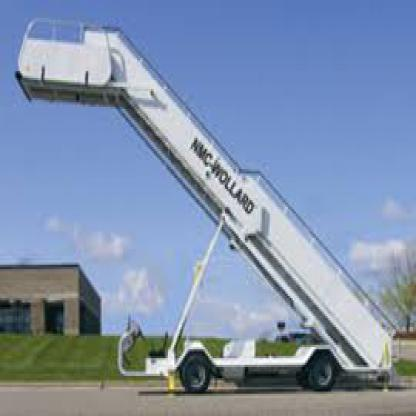boarding stairs: (14, 11, 391, 394)
